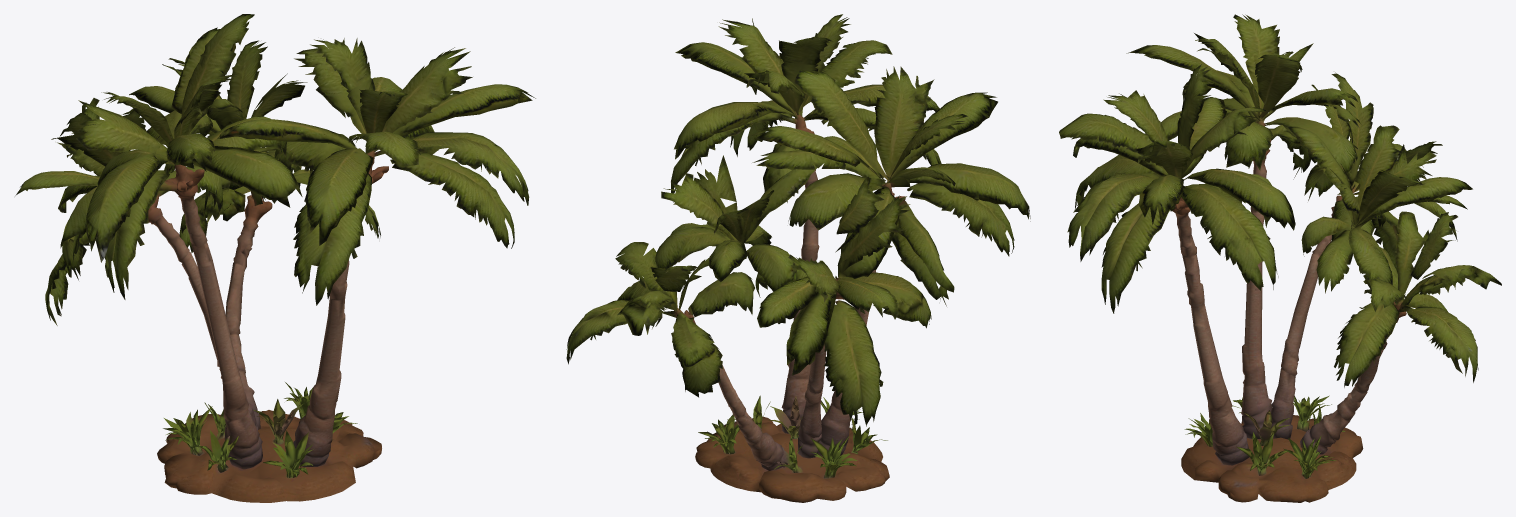
Rendered from jun_leaning_palm_cluster.glb.
3 renders of one model, left to right at view 1: azimuth 30°, elevation 25°; view 2: azimuth 150°, elevation 25°; view 3: azimuth 270°, elevation 25°, orthographic. The views are drawn at different scales.
Parts seen in each view (by area): view 1: tripo_node_82022841-fae1-4120-8960-4bbcf65c6de9; view 2: tripo_node_82022841-fae1-4120-8960-4bbcf65c6de9; view 3: tripo_node_82022841-fae1-4120-8960-4bbcf65c6de9.
Part boxes in pixels (bbox=[...]): tripo_node_82022841-fae1-4120-8960-4bbcf65c6de9: bbox=[15, 14, 535, 502]; tripo_node_82022841-fae1-4120-8960-4bbcf65c6de9: bbox=[566, 14, 1030, 502]; tripo_node_82022841-fae1-4120-8960-4bbcf65c6de9: bbox=[1059, 14, 1501, 502].
Bounding box in the file's own units: 0.9824 × 0.998 × 0.998.
Materials: 1 (1 with a texture image).
